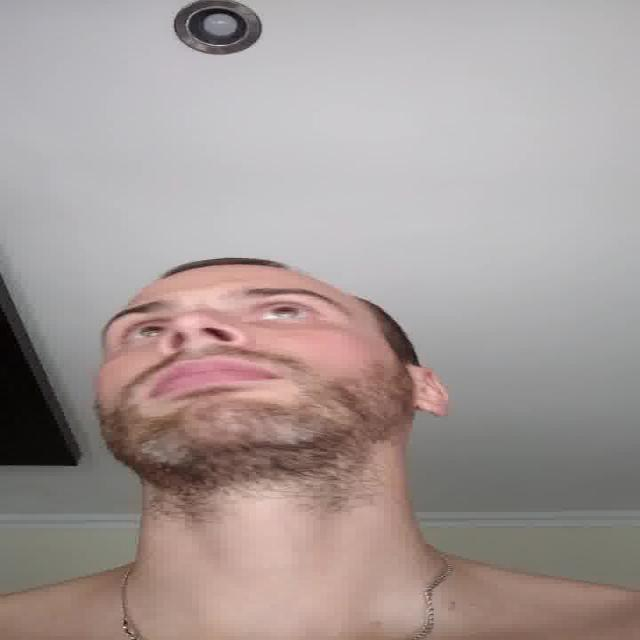earlobe: (409, 399, 452, 417)
eye: (252, 302, 320, 321), (125, 324, 163, 340)
nose: (158, 338, 247, 364)
wholeear: (410, 363, 456, 418)
